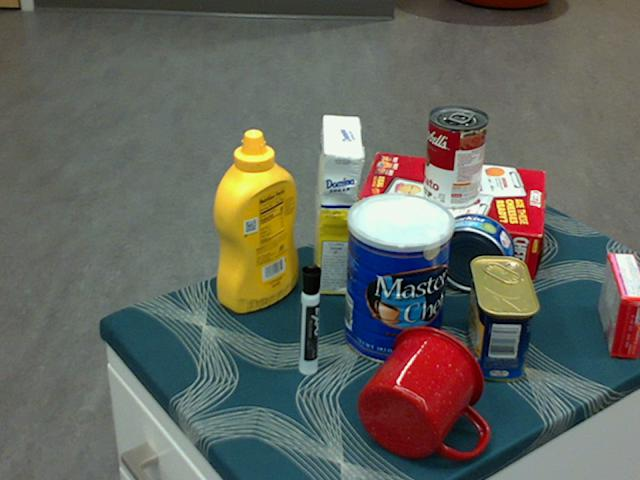cracker_box: (351, 155, 542, 278)
gelatin_box: (597, 253, 639, 359)
large_marker: (297, 262, 319, 377)
master_chef_can: (344, 192, 456, 366)
mug: (358, 325, 486, 460)
mustard_bottle: (212, 129, 298, 313)
potted_meat_can: (465, 256, 541, 381)
sugar_box: (312, 115, 362, 297)
tomato_soup_can: (424, 106, 488, 210)
tuna_fish_can: (433, 212, 515, 292)
